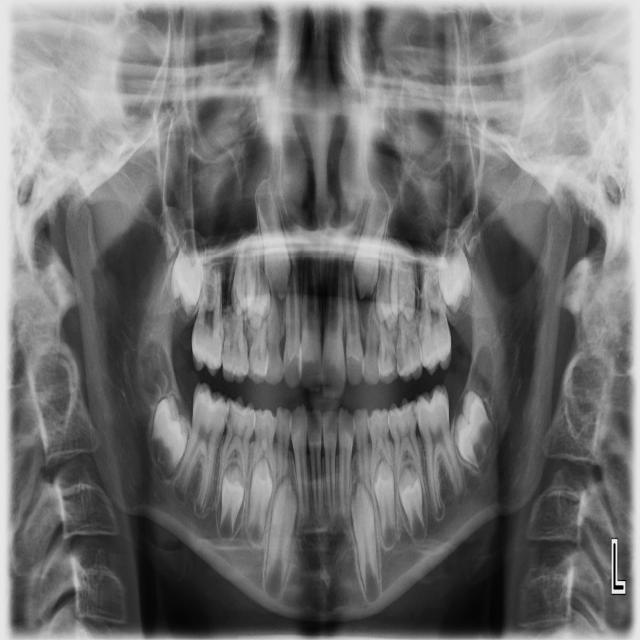mandibula: (66, 185, 570, 631)
